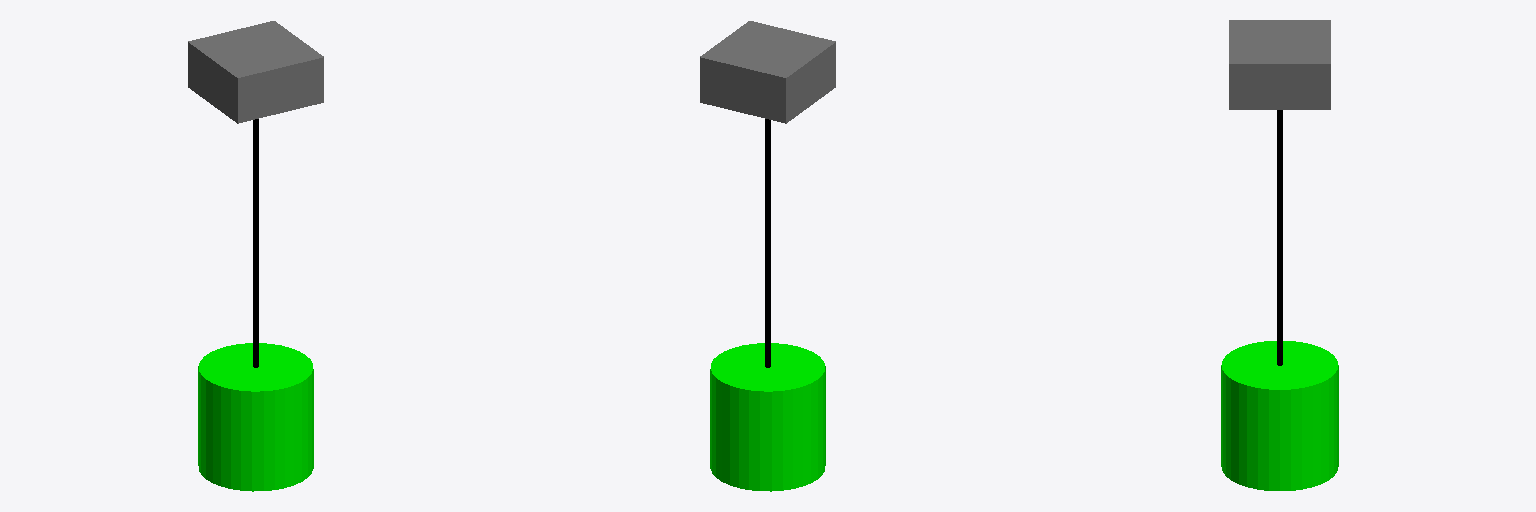
The robot description file, URDF, robot "hanging_object":
<?xml version="1.0"?>
<robot name="hanging_object">

    <!-- Fixed base at the ceiling -->
    <link name="base_1">
        <visual>
            <origin xyz="0 0 0" rpy="0 0 0"/>
            <geometry>
                <box size="0.2 0.2 0.1"/>
            </geometry>
            <material name="grey">
                <color rgba="0.5 0.5 0.5 1"/>
            </material>
        </visual>
        <collision>
            <origin xyz="0 0 0" rpy="0 0 0"/>
            <geometry>
                <box size="0.2 0.2 0.1"/>
            </geometry>
        </collision>
        <inertial>
            <mass value="0"/>
            <inertia ixx="0" iyy="0" izz="0" ixy="0" ixz="0" iyz="0"/>
        </inertial>
    </link>

    <!-- Intermediate link for first rotation (X-axis) -->
    <link name="x_rotation_link_1">
        <inertial>
            <mass value="0"/>
            <inertia ixx="0" iyy="0" izz="0" ixy="0" ixz="0" iyz="0"/>
        </inertial>
    </link>

    <!-- Intermediate link for second rotation (Y-axis) -->
    <link name="y_rotation_link_1">
        <inertial>
            <mass value="0"/>
            <inertia ixx="0" iyy="0" izz="0" ixy="0" ixz="0" iyz="0"/>
        </inertial>
    </link>

    <!-- Hanging link with smaller intersection -->
    <link name="hanging_link_1">
        <visual>
            <origin xyz="0 0 -0.325" rpy="0 0 0"/>
            <geometry>
                <cylinder radius="0.005" length="0.65"/>
            </geometry>
            <material name="black">
                <color rgba="0 0 0 1"/>
            </material>
        </visual>
        <collision>
            <origin xyz="0 0 -0.325" rpy="0 0 0"/>
            <geometry>
                <cylinder radius="0.005" length="0.65"/>
            </geometry>
        </collision>
        <inertial>
            <mass value="0"/>
            <origin xyz="0 0 0"/>
            <inertia ixx="0" iyy="0" izz="0" ixy="0" ixz="0" iyz="0"/>
        </inertial>
    </link>

    <!-- Bucket link -->
    <link name="bucket_1">
        <visual>
            <origin xyz="0 0 -0.11" rpy="0 0 0"/>
            <geometry>
                <cylinder radius="0.115" length="0.22"/>
            </geometry>
            <material name="green">
                <color rgba="0.0 1.0 0.0 1"/>
            </material>
        </visual>
        <collision>
            <origin xyz="0 0 -0.11" rpy="0 0 0"/>
            <geometry>
                <cylinder radius="0.115" length="0.22"/>
            </geometry>
        </collision>
        <inertial>
            <mass value="5.6"/>
            <origin xyz="0 0 -0.073"/>
            <inertia ixx="0.05" iyy="0.05" izz="0.05" ixy="0" ixz="0" iyz="0"/>
        </inertial>
    </link>

    <!-- Revolute joint for X-axis rotation -->
    <joint name="x_rotation_joint_1" type="revolute">
        <parent link="base_1"/>
        <child link="x_rotation_link_1"/>
        <origin xyz="0 0 0"/>
        <axis xyz="1 0 0"/>
        <limit lower="-3.14" upper="3.14" effort="10" velocity="1"/>
        <dynamics damping="0.0" friction="0.0"/>
    </joint>

    <!-- Revolute joint for Y-axis rotation -->
    <joint name="y_rotation_joint_1" type="revolute">
        <parent link="x_rotation_link_1"/>
        <child link="y_rotation_link_1"/>
        <origin xyz="0 0 0"/>
        <axis xyz="0 1 0"/>
        <limit lower="-3.14" upper="3.14" effort="10" velocity="1"/>
        <dynamics damping="0.0" friction="0.0"/>
    </joint>

    <!-- Revolute joint for Z-axis rotation -->
    <joint name="z_rotation_joint_1" type="revolute">
        <parent link="y_rotation_link_1"/>
        <child link="hanging_link_1"/>
        <origin xyz="0 0 0"/>
        <axis xyz="0 0 1"/>
        <limit lower="-3.14" upper="3.14" effort="10" velocity="1"/>
        <dynamics damping="0.0" friction="0.0"/>
    </joint>

    <!-- Fixed joint for bucket -->
    <joint name="bucket_joint_1" type="fixed">
        <parent link="hanging_link_1"/>
        <child link="bucket_1"/>
        <origin xyz="0 0 -0.65"/>
    </joint>

  <link name="world">
    <inertial>
      <mass value="0"/>
      <inertia ixx="0.0" ixy="0.0" ixz="0.0" iyy="0.0" iyz="0.0" izz="0.0"/>
    </inertial>
  </link>
  <joint name="fixed_joint_1" type="fixed">
    <parent link="world"/>
    <child link="base_1"/>
  </joint>
</robot>

--- Facts derived from the render (not from the file) ---
3 views of the same robot in one strip: view 1: azimuth 30°, elevation 25°; view 2: azimuth 150°, elevation 25°; view 3: azimuth 270°, elevation 25° (orthographic).
Model hanging_object with 6 links and 5 joints (3 revolute, 2 fixed), rooted at world, posed every joint at zero.
Links seen in each view (by area): view 1: bucket_1, base_1, hanging_link_1; view 2: bucket_1, base_1, hanging_link_1; view 3: bucket_1, base_1, hanging_link_1.
Link boxes in pixels (box(x1,y1,x2,y2)): bucket_1: box(198, 343, 313, 491); base_1: box(188, 21, 323, 123); hanging_link_1: box(253, 119, 258, 367); bucket_1: box(710, 343, 825, 491); base_1: box(700, 21, 835, 123); hanging_link_1: box(765, 119, 770, 367); bucket_1: box(1221, 341, 1338, 490); base_1: box(1229, 20, 1330, 109); hanging_link_1: box(1277, 110, 1282, 365).
Size in the robot's own frame: 0.23 by 0.23 by 0.92 metres.
Geometry: primitives only (box / cylinder / sphere), no mesh files.